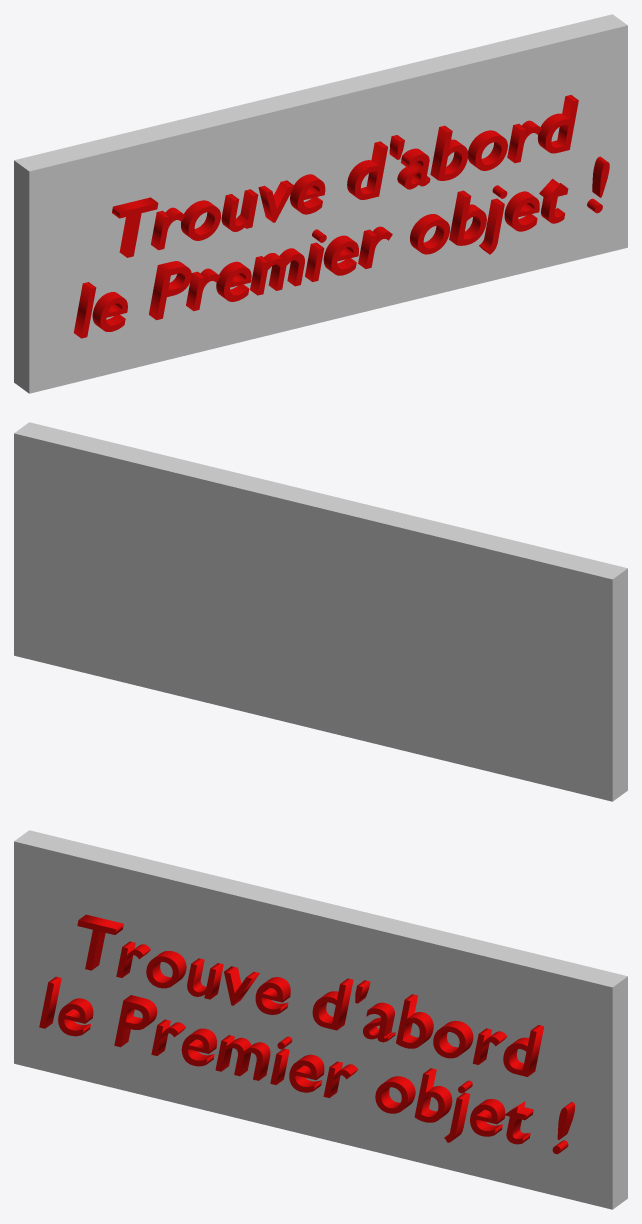
The model's file is erreur.glb.
3 renders of one model, top to bottom at view 1: azimuth 30°, elevation 25°; view 2: azimuth 150°, elevation 25°; view 3: azimuth 330°, elevation 25°, orthographic.
Visible parts, largest first — view 1: Text; view 2: Text; view 3: Text.
Boxes of the visible parts, left/top/right/bottom form: Text: left=14, top=14, right=627, bottom=393; Text: left=14, top=422, right=627, bottom=801; Text: left=14, top=830, right=627, bottom=1209.
Bounding box in the file's own units: 9.02 × 3.2 × 0.7505.
